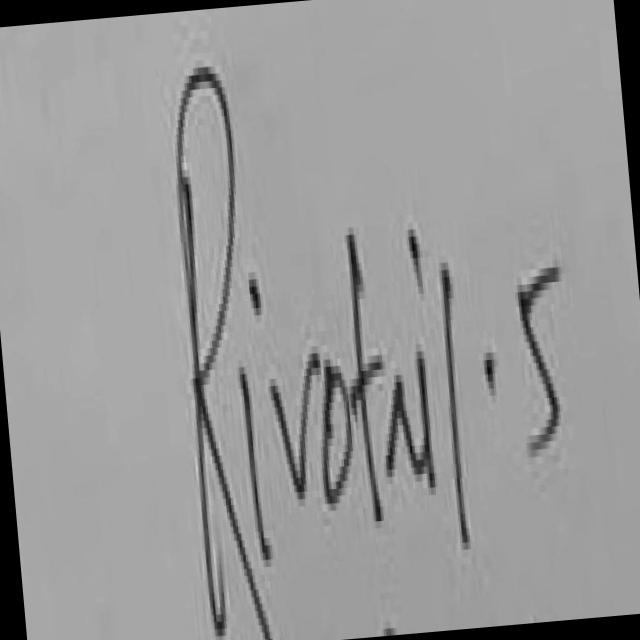5: (498, 202, 578, 500)
R: (149, 30, 286, 640)
i: (395, 203, 448, 497), (235, 252, 280, 565)
l: (422, 202, 488, 582)
o: (312, 326, 359, 518)
r: (374, 347, 424, 495)
t: (330, 207, 398, 557)
v: (258, 334, 328, 528)
